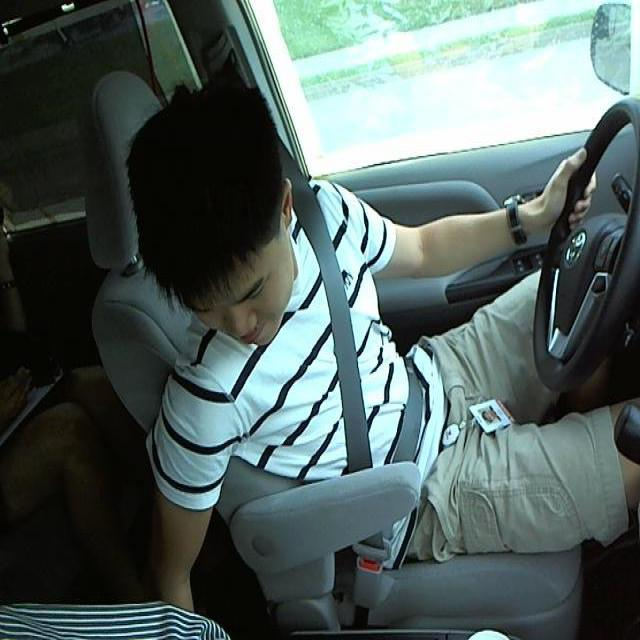seatbelt: (293, 223, 465, 489)
